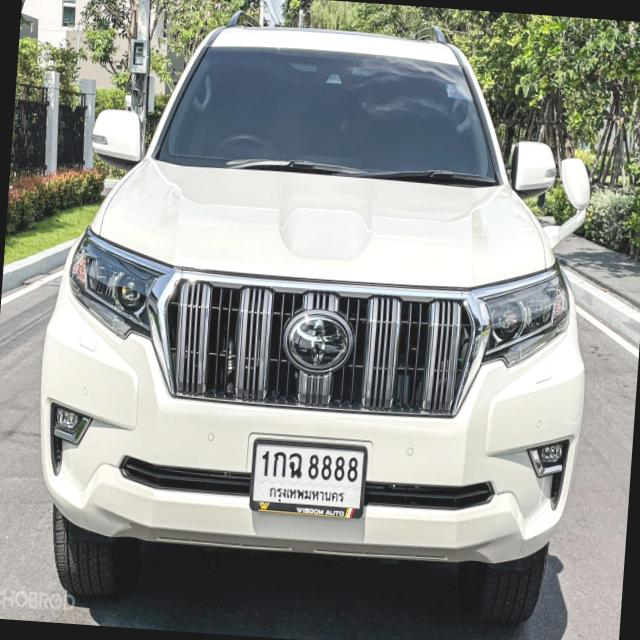license_plate: (246, 431, 372, 524)
